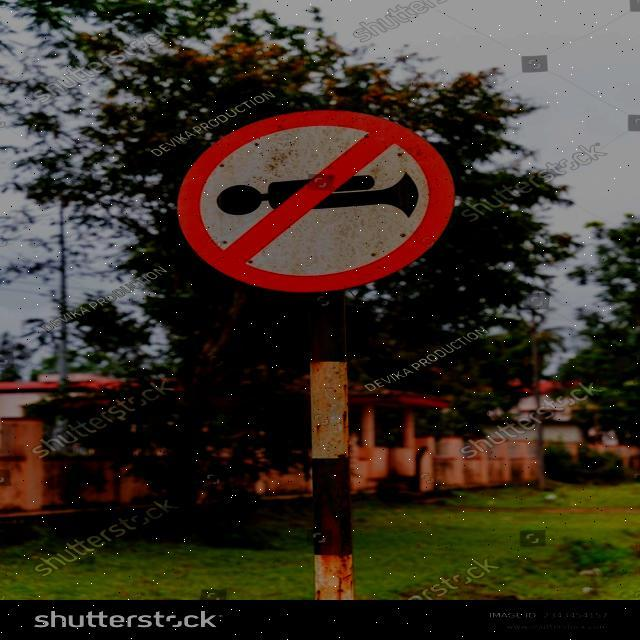Traffic sign: (166, 103, 464, 298)
